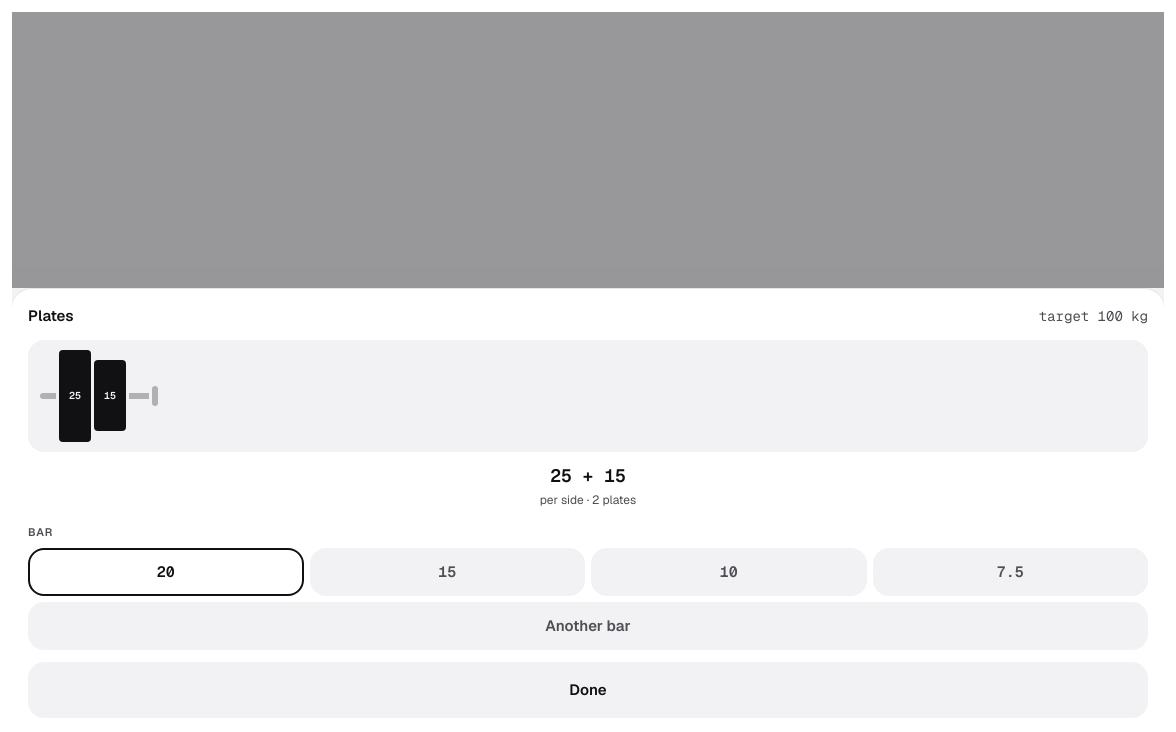
Test: PlateSheet › reloads the bar when another one is picked
The image size is (1176, 732).
Click the button "15" at (447, 572), box [310,548,585,596]
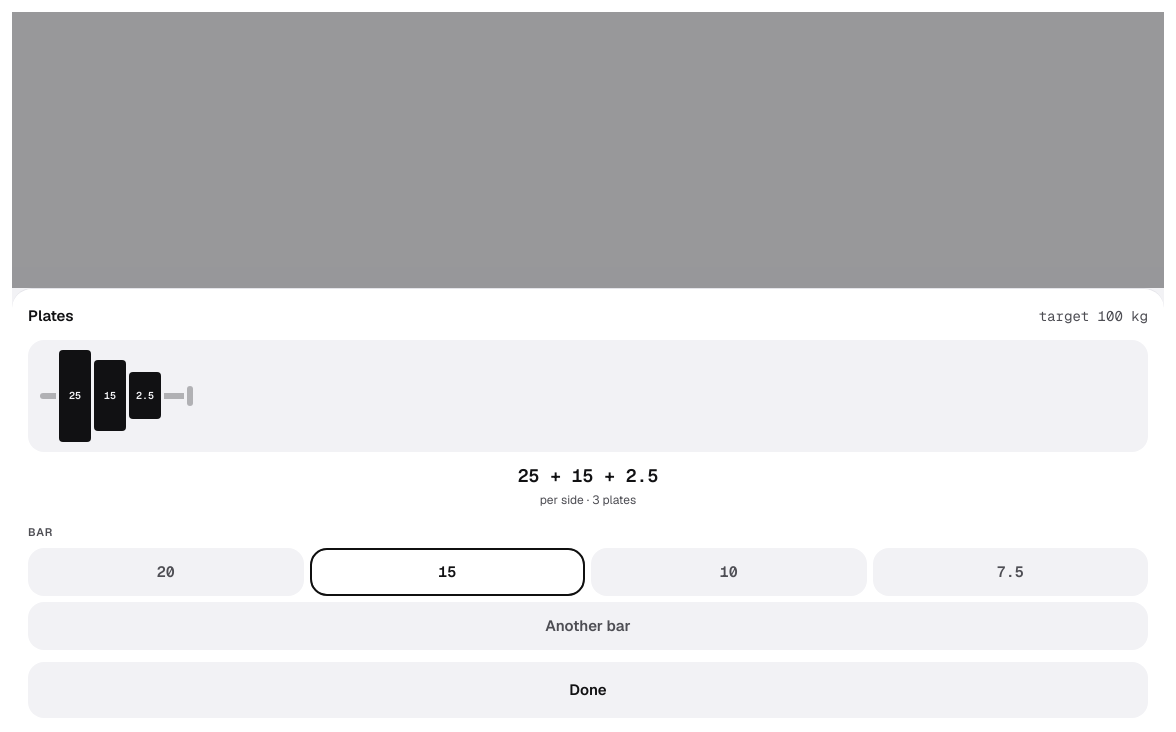
Now the text "25 + 15 + 2.5" is shown, box [518,464,658,486]
